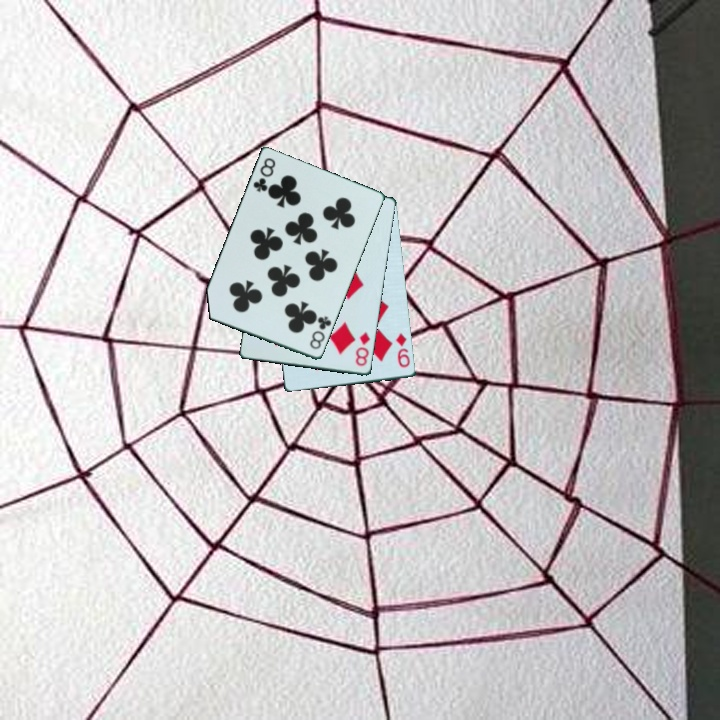8c: (250, 154, 279, 195), (306, 313, 334, 353)
8d: (352, 329, 373, 369)
9d: (393, 330, 413, 370)
